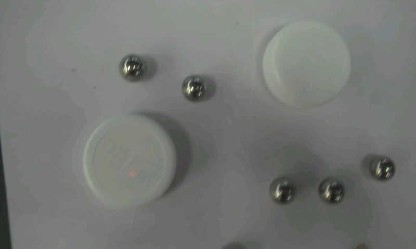ironball: (317, 176, 344, 204), (268, 176, 295, 204), (118, 53, 145, 81), (368, 154, 395, 180), (180, 73, 205, 101)
